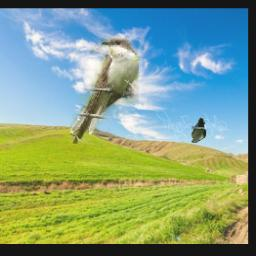Cuckoo: (70, 37, 139, 145), (192, 119, 207, 144)
